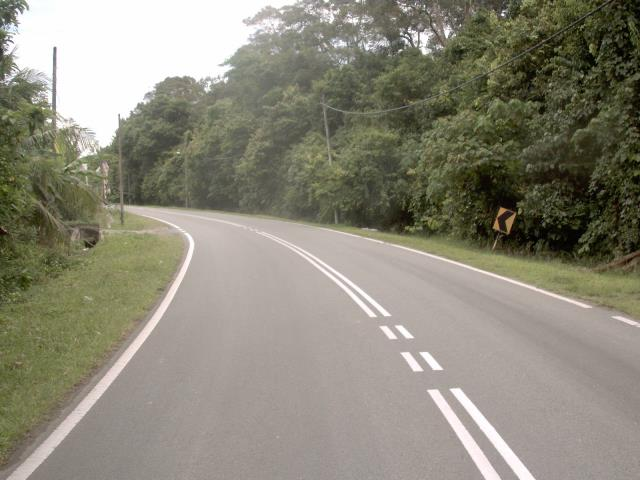traffic_sign: (488, 201, 521, 240)
